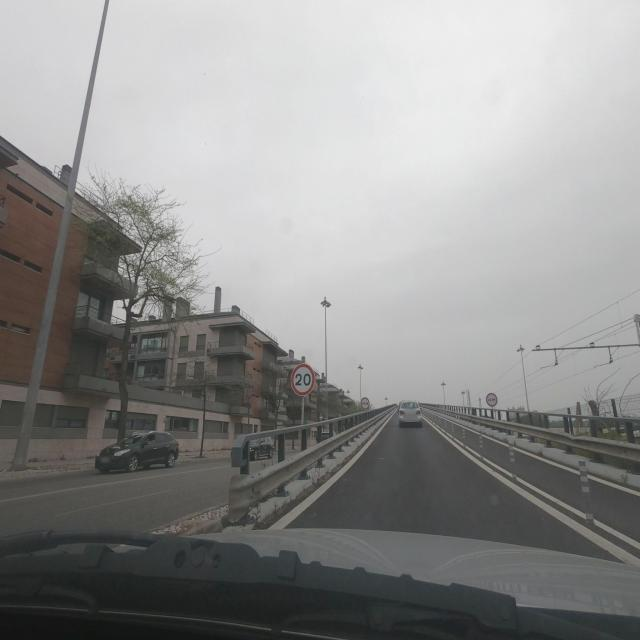car: (94, 430, 180, 473), (230, 432, 274, 467), (398, 400, 423, 428)
